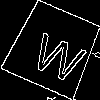W: (27, 23, 93, 84)
